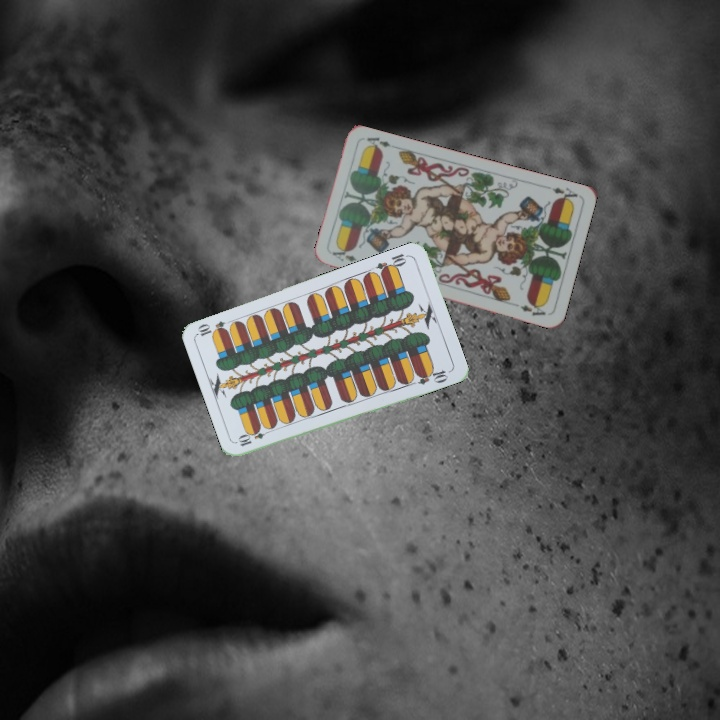E10: (372, 249, 411, 277), (234, 424, 274, 449)
EA: (541, 182, 580, 205), (328, 248, 359, 264)
